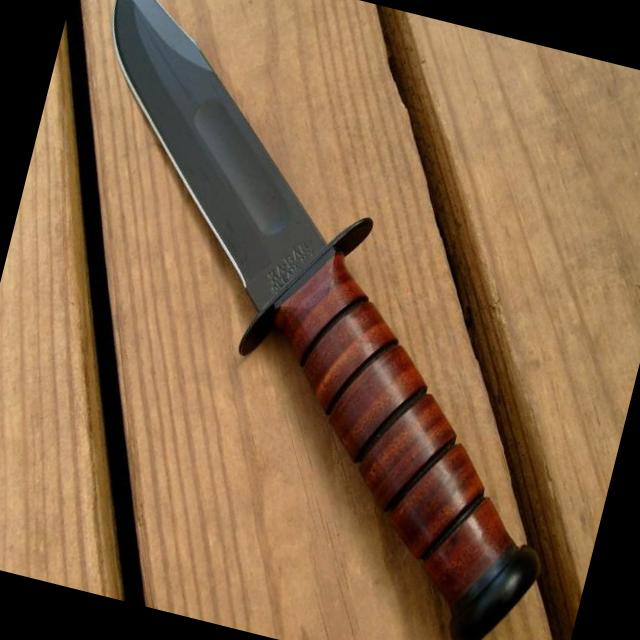Knife: (114, 0, 537, 640)
